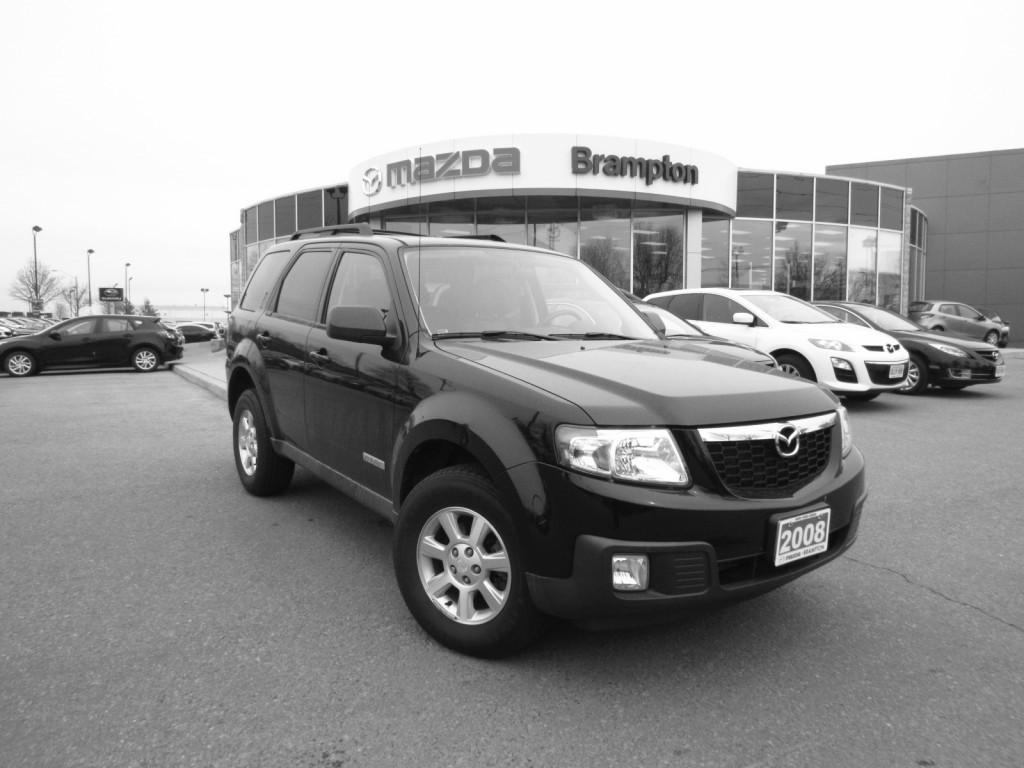car: (222, 229, 869, 665)
